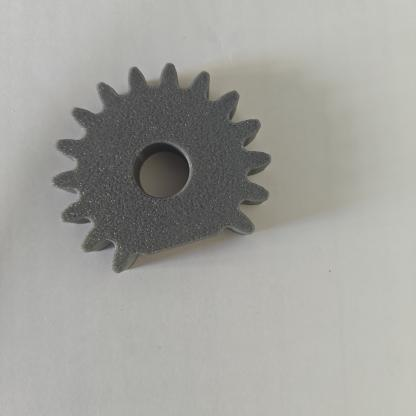defect: (110, 207, 254, 289)
gear: (38, 53, 294, 316)
